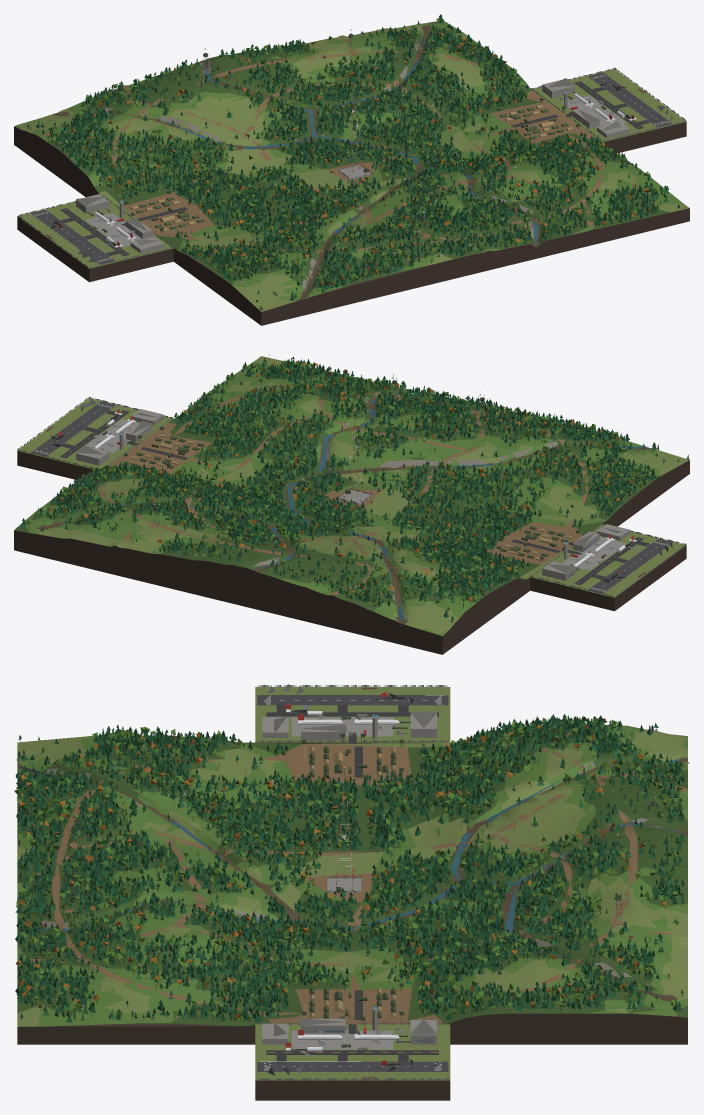
The model's file is map_airbase.glb.
The picture shows the model from 3 angles, top to bottom: view 1: azimuth 30°, elevation 25°; view 2: azimuth 150°, elevation 25°; view 3: azimuth 270°, elevation 25°; orthographic projection. The views are drawn at different scales.
Parts seen in each view (by area): view 1: Tile; view 2: Tile; view 3: Tile.
Part boxes in pixels (x1,y1,x2,y2): Tile: [14, 14, 689, 325]; Tile: [14, 354, 689, 654]; Tile: [14, 684, 689, 1100].
Bounding box in the file's own units: 920 × 148 × 665.
